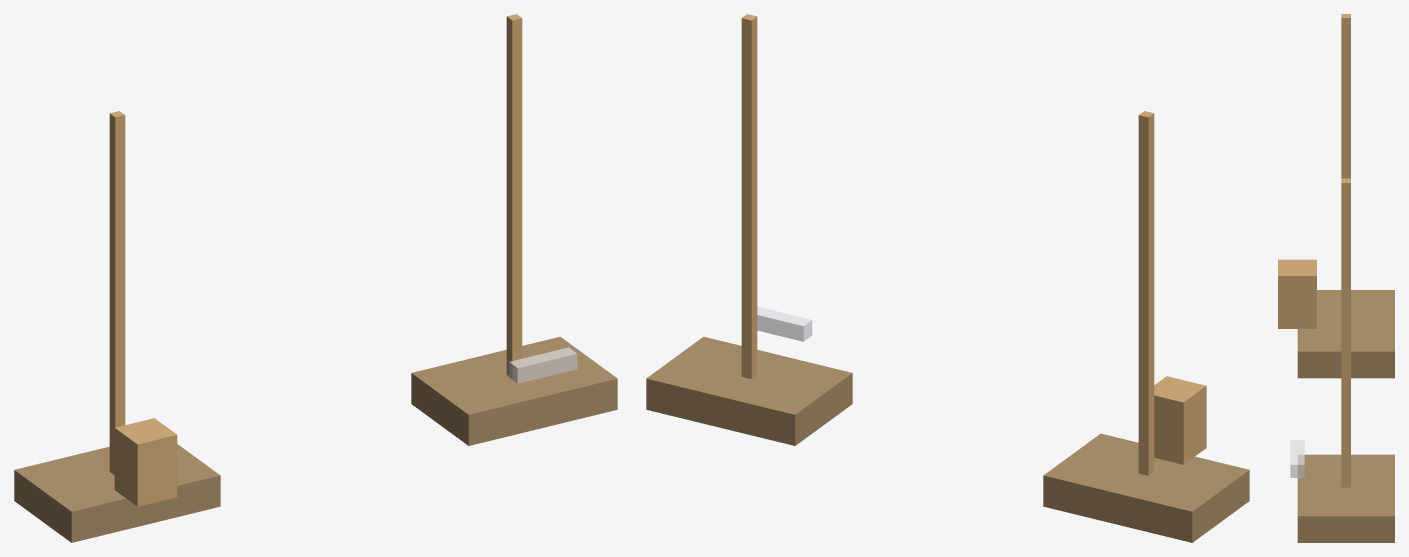
Rendered from radio.gltf.
3 renders of one model, left to right at view 1: azimuth 30°, elevation 25°; view 2: azimuth 150°, elevation 25°; view 3: azimuth 270°, elevation 25°, orthographic. The views are drawn at different scales.
Visible parts, largest first — view 1: ReceiverBase, TransmitterBase, ReceiverAntenna, TransmitterAntenna, InductionCoil, Coherer; view 2: ReceiverBase, TransmitterBase, TransmitterAntenna, ReceiverAntenna, InductionCoil, Coherer; view 3: ReceiverBase, TransmitterBase, ReceiverAntenna, InductionCoil, TransmitterAntenna, Coherer.
Part boxes in pixels (x1,y1,x2,y2): ReceiverBase: (411,336,617,445); TransmitterBase: (14,444,220,542); ReceiverAntenna: (506,14,522,378); TransmitterAntenna: (109,111,125,474); InductionCoil: (114,418,177,506); Coherer: (509,347,577,383); ReceiverBase: (646,336,852,445); TransmitterBase: (1043,433,1249,542); TransmitterAntenna: (1138,111,1154,475); ReceiverAntenna: (741,14,757,378); InductionCoil: (1154,376,1206,464); Coherer: (757,306,812,341); ReceiverBase: (1297,454,1394,542); TransmitterBase: (1297,290,1394,378); ReceiverAntenna: (1341,178,1350,487); InductionCoil: (1278,259,1316,328); TransmitterAntenna: (1341,14,1350,178); Coherer: (1290,440,1304,477).
Size of the model in its own units: 1.1 by 0.75 by 0.24.
